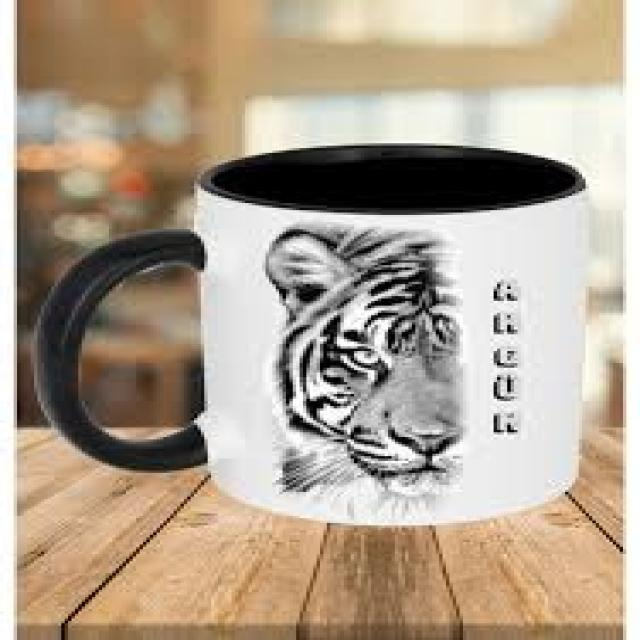taza: (31, 142, 592, 528)
